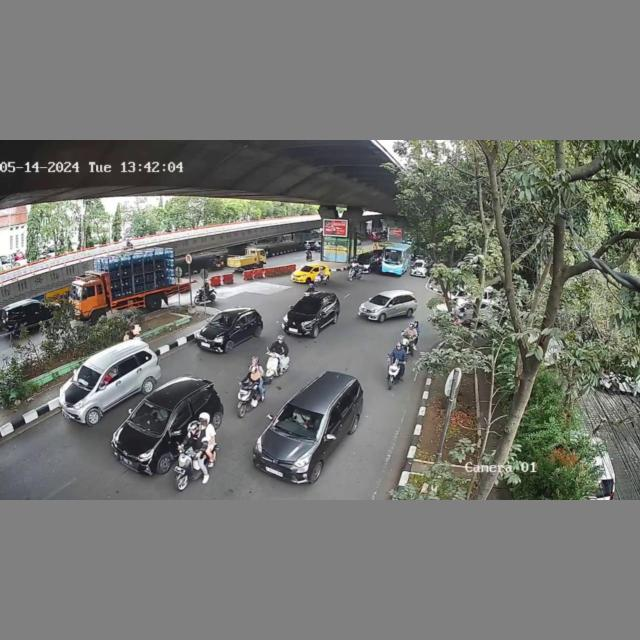windshield: (277, 404, 326, 438), (128, 400, 172, 431), (71, 363, 104, 387), (292, 299, 321, 314), (209, 314, 235, 328), (368, 295, 393, 305)
